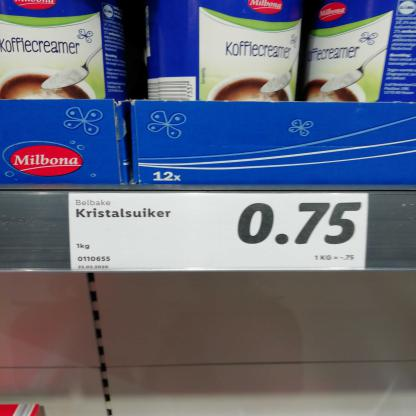prtg: (70, 193, 369, 272)
